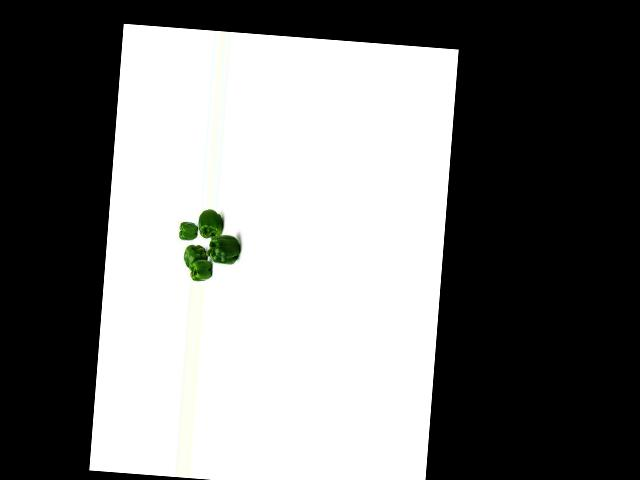bell_pepper: (189, 257, 215, 282)
